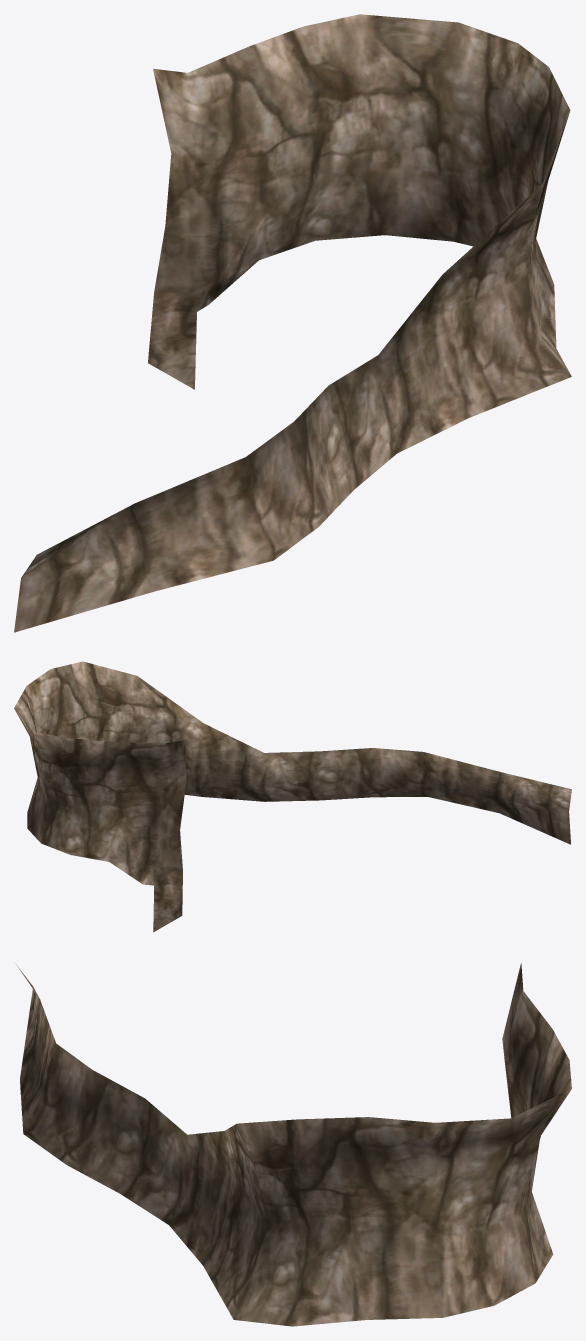
The model's file is EKH_THRONE_PS_TH_OBJECT25.fbx.
3 views of the same model, one above another, from view 1: azimuth 30°, elevation 25°; view 2: azimuth 150°, elevation 25°; view 3: azimuth 270°, elevation 25° (orthographic). The views are drawn at different scales.
Parts seen in each view (by area): view 1: EKH_THRONE_PS_TH_OBJECT25; view 2: EKH_THRONE_PS_TH_OBJECT25; view 3: EKH_THRONE_PS_TH_OBJECT25.
Part boxes in pixels (x1,y1,x2,y2): EKH_THRONE_PS_TH_OBJECT25: [14, 14, 571, 632]; EKH_THRONE_PS_TH_OBJECT25: [14, 661, 571, 932]; EKH_THRONE_PS_TH_OBJECT25: [15, 963, 571, 1326].
Bounding box in the file's own units: 122217 × 54763 × 88702.
Materials: 1 (1 with a texture image).
